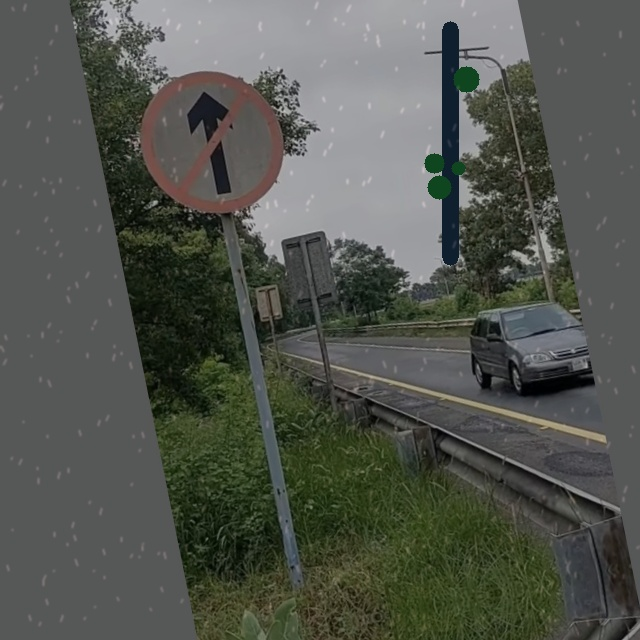No_Entry: (132, 60, 295, 225)
